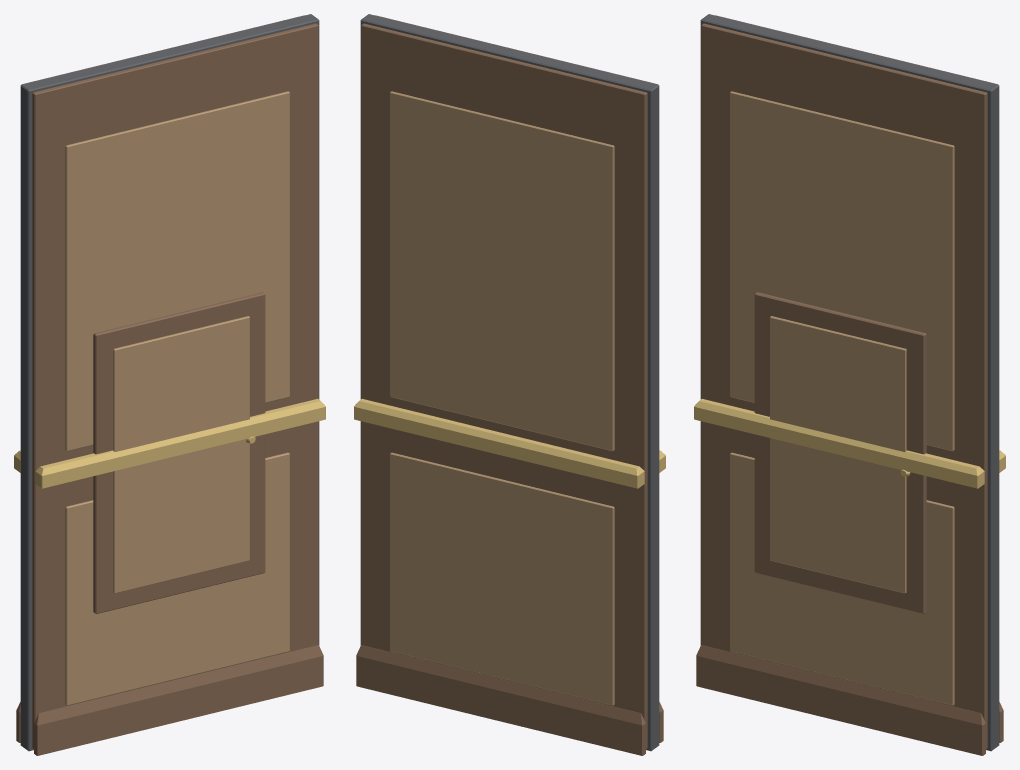
File: escape-room-and-puzzle-venue-puzzle-room-wall-hidden-p-7b4a8a2b__35773.glb
The picture shows the model from 3 angles, left to right: view 1: azimuth 30°, elevation 25°; view 2: azimuth 150°, elevation 25°; view 3: azimuth 330°, elevation 25°; orthographic projection.
Parts seen in each view (by area): view 1: puzzle-room-wall-hidden-panel, panel/timber, panel/walnut; view 2: puzzle-room-wall-hidden-panel; view 3: puzzle-room-wall-hidden-panel, panel/timber, panel/walnut.
Part boxes in pixels (<box>): puzzle-room-wall-hidden-panel: <box>14,14,325,755</box>; panel/timber: <box>113,316,249,593</box>; panel/walnut: <box>93,292,265,613</box>; puzzle-room-wall-hidden-panel: <box>354,14,665,755</box>; puzzle-room-wall-hidden-panel: <box>694,14,1005,755</box>; panel/timber: <box>770,316,906,593</box>; panel/walnut: <box>754,292,926,613</box>.
Size of the model in its own units: 1.2 by 2.6 by 0.205.
